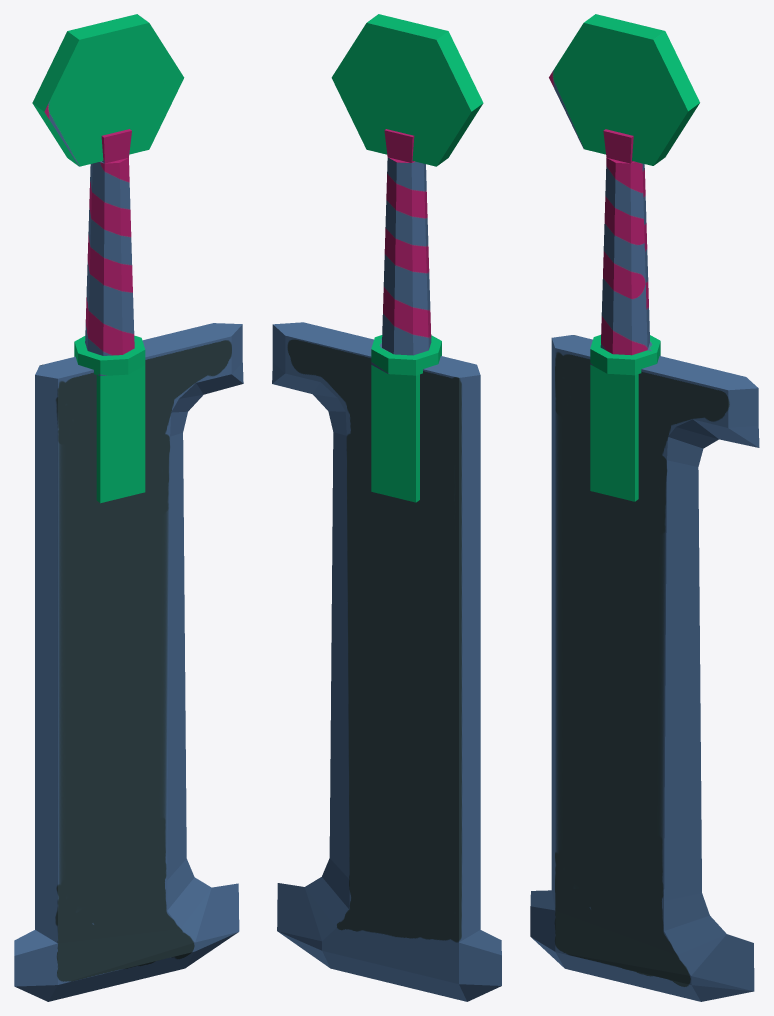
File: sword.fbx
3 renders of one model, left to right at view 1: azimuth 30°, elevation 25°; view 2: azimuth 150°, elevation 25°; view 3: azimuth 330°, elevation 25°, orthographic.
Visible parts, largest first — view 1: Blade, BladeHand; view 2: Blade, BladeHand; view 3: Blade, BladeHand.
Part boxes in pixels (bbox=[...]): Blade: bbox=[14, 323, 243, 1001]; BladeHand: bbox=[32, 14, 184, 503]; Blade: bbox=[272, 322, 501, 1001]; BladeHand: bbox=[331, 14, 483, 502]; Blade: bbox=[530, 335, 759, 1001]; BladeHand: bbox=[549, 14, 699, 501].
Bounding box in the file's own units: 165 × 658 × 45.52.
Materials: 1 (1 with a texture image).
